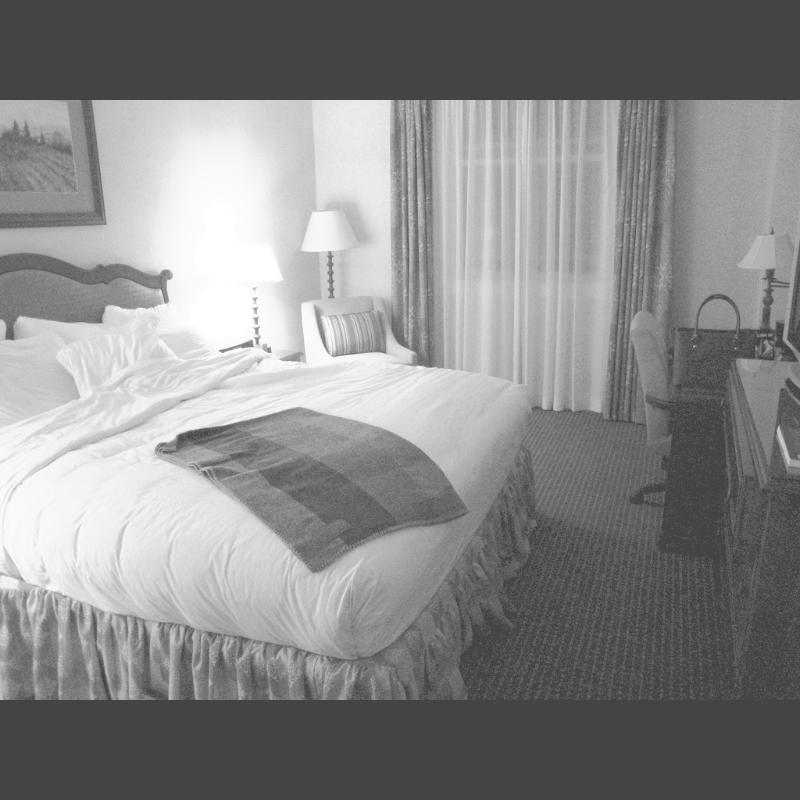pillow: (314, 296, 390, 350)
